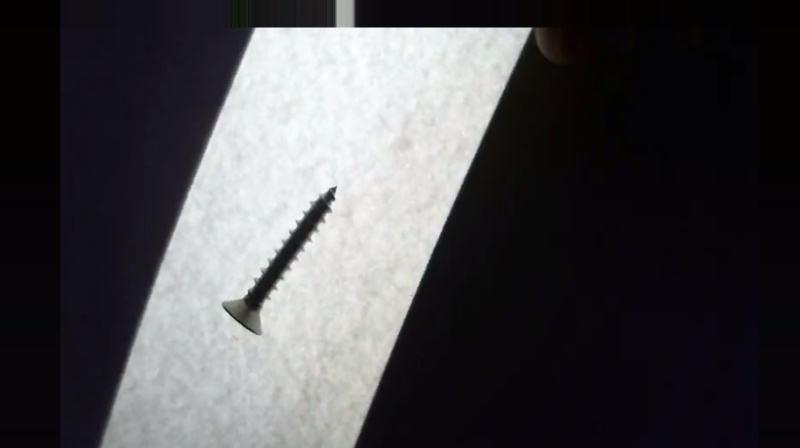S001: (218, 180, 342, 338)
